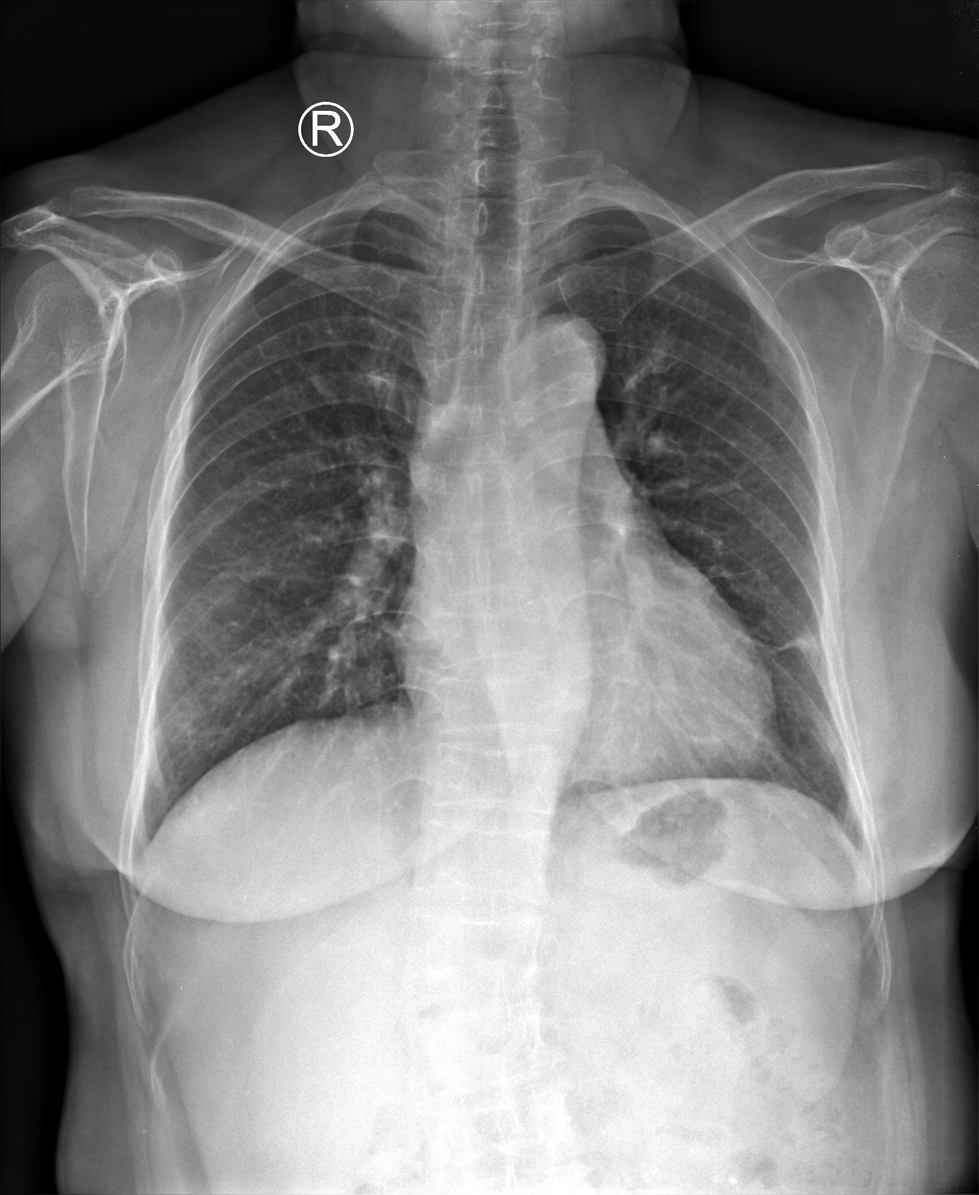Aortic enlargement: (517, 313, 607, 417)
Cardiomegaly: (391, 609, 768, 788)
Pulmonary fibrosis: (777, 625, 822, 661)
